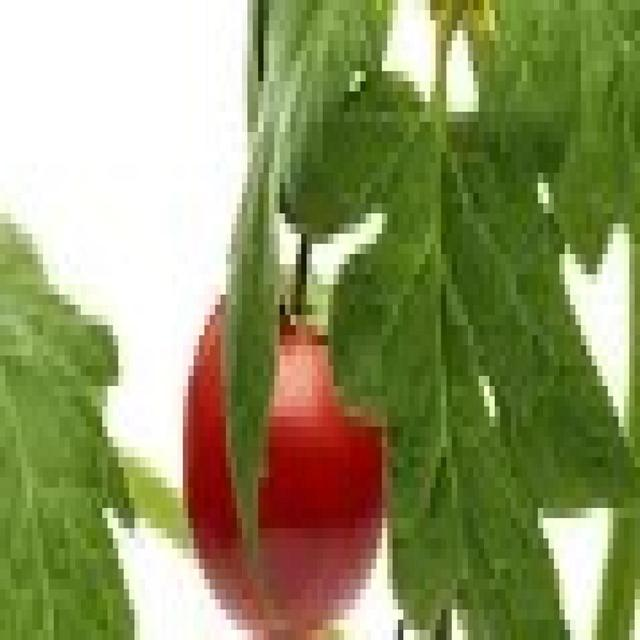Healthy Fruit: (121, 170, 255, 424)
